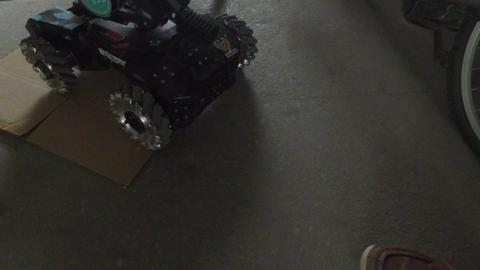chariot: (1, 1, 274, 169)
